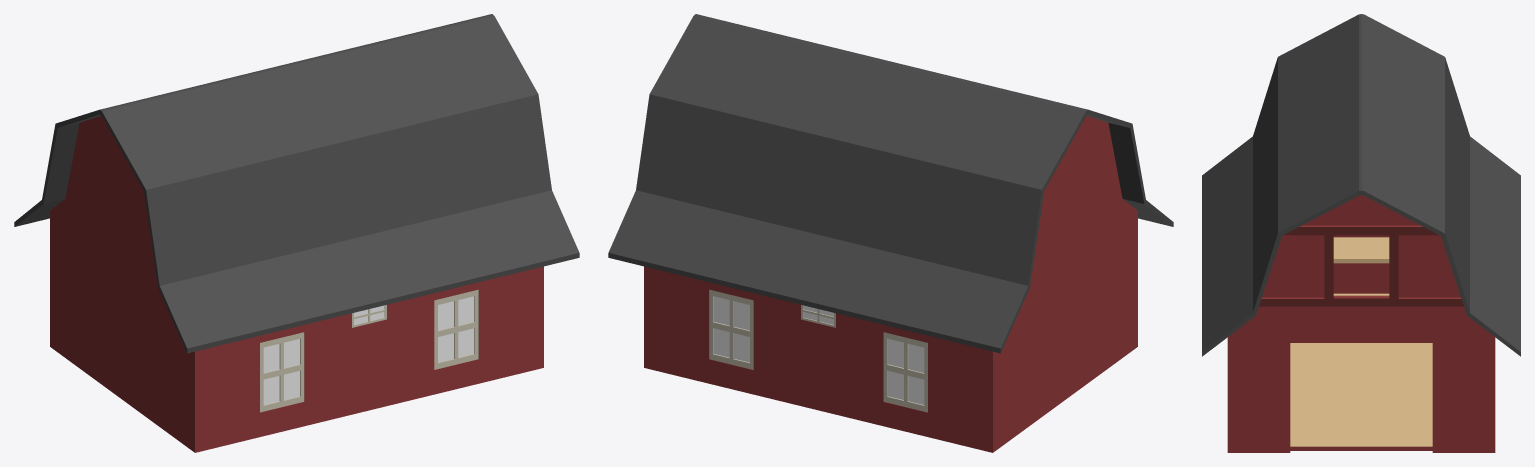
The model's file is BarnPractice.fbx.
3 views of the same model, side by side, from view 1: azimuth 30°, elevation 25°; view 2: azimuth 150°, elevation 25°; view 3: azimuth 270°, elevation 25° (orthographic). The views are drawn at different scales.
Visible parts, largest first — view 1: Roof_Cube.006, Wall.L_Cube.001, Wall.B_Cube.005, Back_Window.L_Cube.012, Front_Window.L_Cube.013; view 2: Roof_Cube.006, Wall.R_Cube.002, Wall.B_Cube.005, Back_Window.L.001_Cube.016, Front_Window.L.001_Cube.017; view 3: Roof_Cube.006, Wall.F_Cube.004, Foundation_Cube, Wall.B_Cube.005, Top_Floor_Cube.018, Wall.L_Cube.001, Wall.R_Cube.002.
Boxes of the visible parts, x1,y1,x2,y2 form: Roof_Cube.006: (14,14,579,353); Wall.L_Cube.001: (192,267,541,452); Wall.B_Cube.005: (50,116,196,452); Back_Window.L_Cube.012: (260,332,304,412); Front_Window.L_Cube.013: (434,289,478,369); Roof_Cube.006: (608,14,1173,353); Wall.R_Cube.002: (646,267,995,452); Wall.B_Cube.005: (988,116,1137,451); Back_Window.L.001_Cube.016: (883,332,927,412); Front_Window.L.001_Cube.017: (709,289,753,369); Roof_Cube.006: (1202,14,1520,356); Wall.F_Cube.004: (1227,195,1495,452); Foundation_Cube: (1290,293,1432,450); Wall.B_Cube.005: (1333,235,1389,293); Top_Floor_Cube.018: (1333,237,1389,263); Wall.L_Cube.001: (1227,334,1232,452); Wall.R_Cube.002: (1490,334,1495,452).
Size of the model in its own units: 4500 by 3232 by 3432.
